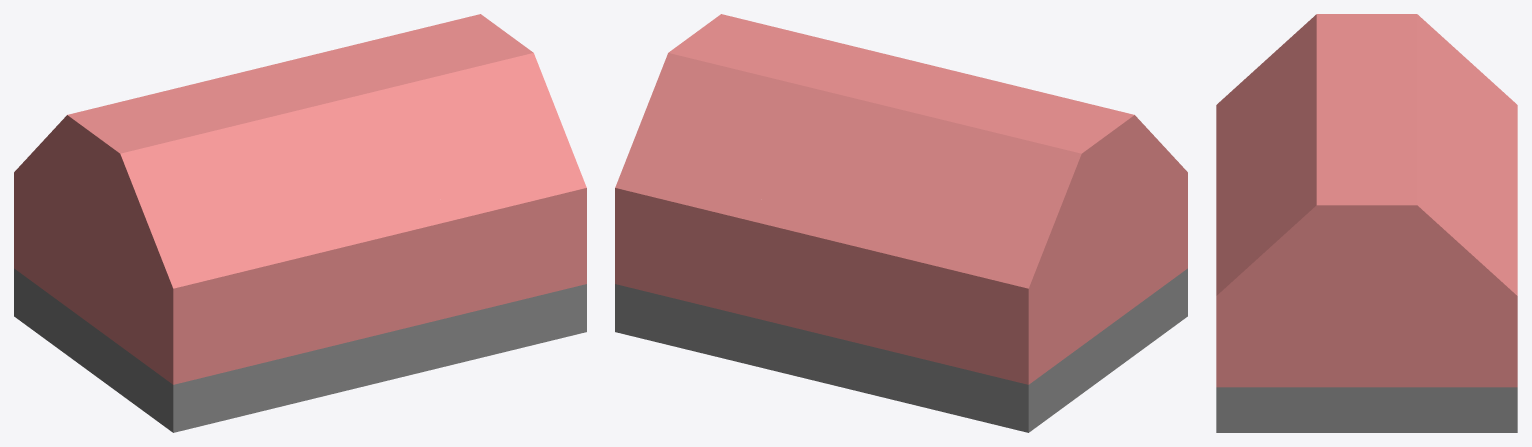
File: SM_Motor_3x2x5s.gltf
3 views of the same model, side by side, from view 1: azimuth 30°, elevation 25°; view 2: azimuth 150°, elevation 25°; view 3: azimuth 270°, elevation 25° (orthographic). The views are drawn at different scales.
Parts seen in each view (by area): view 1: SM_Motor_3x2x5s; view 2: SM_Motor_3x2x5s; view 3: SM_Motor_3x2x5s.
Boxes of the visible parts, left/top/right/bottom form: SM_Motor_3x2x5s: left=14, top=14, right=586, bottom=432; SM_Motor_3x2x5s: left=615, top=14, right=1187, bottom=432; SM_Motor_3x2x5s: left=1216, top=14, right=1517, bottom=432.
Bounding box in the file's own units: 0.9 × 0.5 × 0.6.
